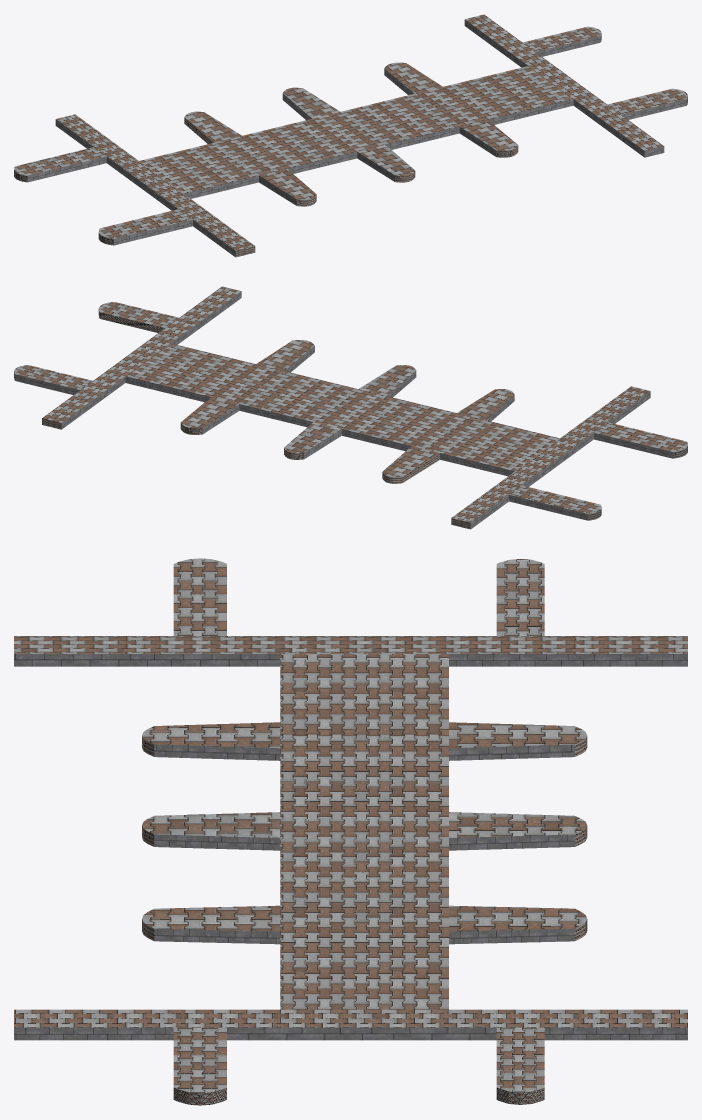
The model's file is parking_lot_3.fbx.
3 renders of one model, top to bottom at view 1: azimuth 30°, elevation 25°; view 2: azimuth 150°, elevation 25°; view 3: azimuth 270°, elevation 25°, orthographic. The views are drawn at different scales.
Visible parts, largest first — view 1: parking_lot_3; view 2: parking_lot_3; view 3: parking_lot_3.
Boxes of the visible parts, x1=… form: parking_lot_3: x1=14, y1=14, x2=687, y2=257; parking_lot_3: x1=14, y1=286, x2=687, y2=529; parking_lot_3: x1=14, y1=558, x2=687, y2=1105.
Bounding box in the file's own units: 237 × 2.62 × 126.
